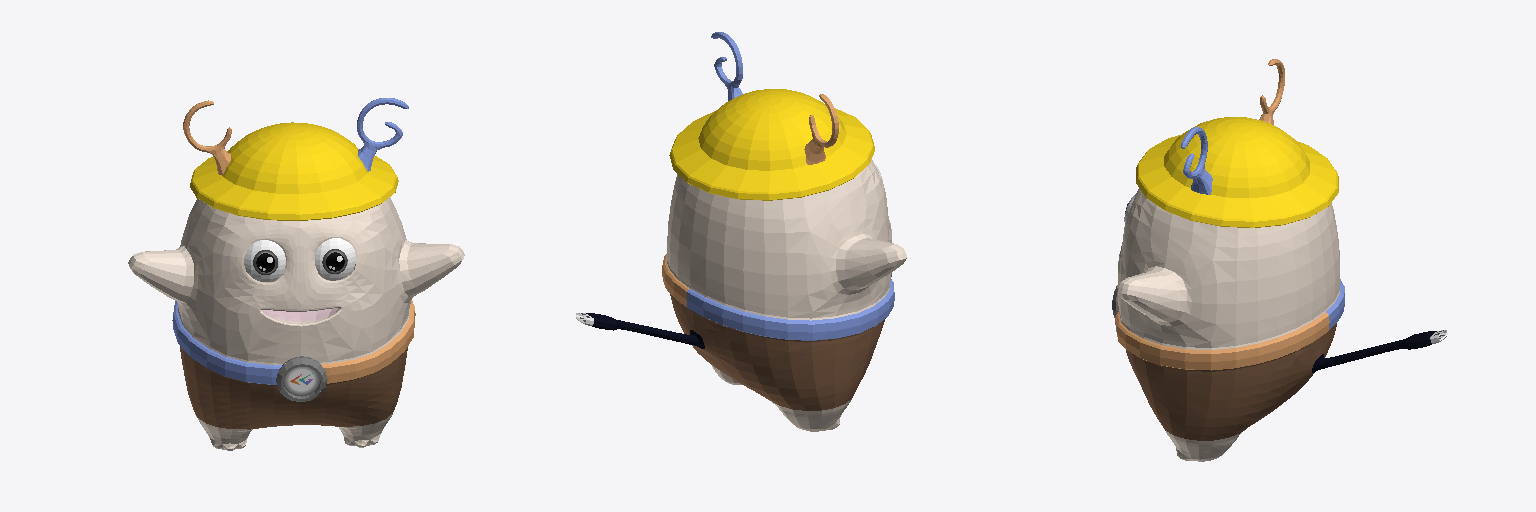
The picture shows the model from 3 angles: view 1: azimuth 30°, elevation 25°; view 2: azimuth 150°, elevation 25°; view 3: azimuth 270°, elevation 25°; orthographic projection.
Parts seen in each view (by area): view 1: character:body character:charactor character:polySurface1, character:group1 character:pasted__charactor character:pasted__p, character:charactor character:logo character:polySurface1, character:charactor character:eye_right character:eyes character, character:charactor character:eye_left character:eyes character:; view 2: character:body character:charactor character:polySurface1, character:group1 character:pasted__charactor character:pasted__p; view 3: character:body character:charactor character:polySurface1, character:group1 character:pasted__charactor character:pasted__p.
Boxes of the visible parts, box(x1,y1,x2,y2) form: character:body character:charactor character:polySurface1: box(128, 98, 464, 450); character:group1 character:pasted__charactor character:pasted__p: box(190, 122, 398, 220); character:charactor character:logo character:polySurface1: box(276, 356, 327, 401); character:charactor character:eye_right character:eyes character: box(244, 240, 285, 281); character:charactor character:eye_left character:eyes character:: box(315, 238, 355, 280); character:body character:charactor character:polySurface1: box(576, 32, 906, 431); character:group1 character:pasted__charactor character:pasted__p: box(669, 89, 874, 200); character:body character:charactor character:polySurface1: box(1115, 59, 1447, 461); character:group1 character:pasted__charactor character:pasted__p: box(1136, 117, 1338, 227).
Bounding box in the file's own units: 4.17 × 5.16 × 4.59.
4 materials, 4 textured.